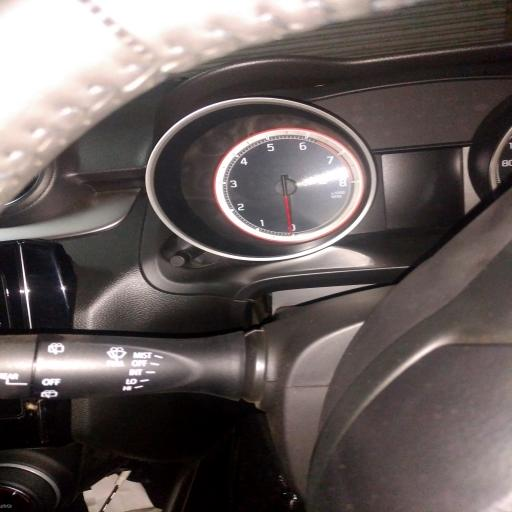tachometer: (215, 127, 365, 243)
